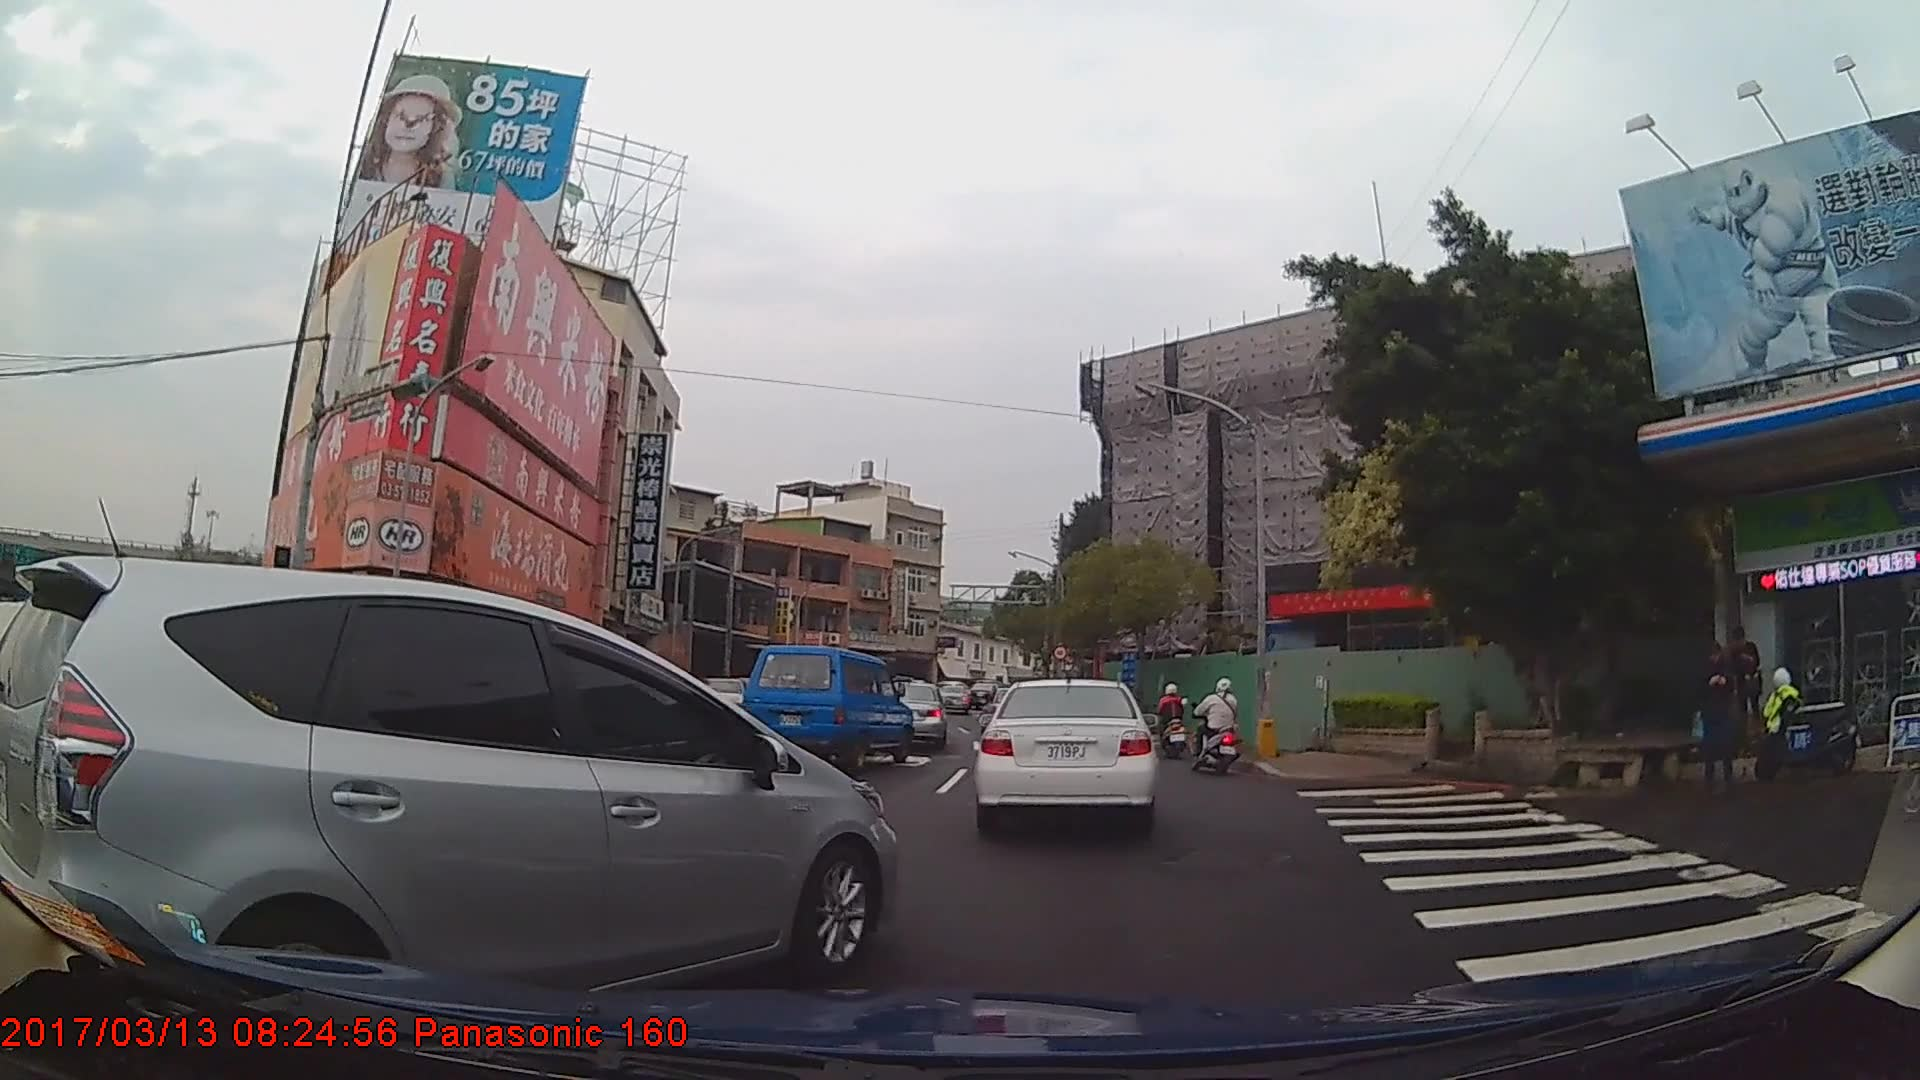pedestrian: (1695, 641, 1740, 790), (1721, 621, 1768, 751)
rider: (1196, 674, 1246, 773), (1157, 681, 1191, 758)
vehicle: (1, 555, 899, 1030), (972, 677, 1160, 838), (746, 643, 916, 770), (875, 680, 949, 750)
